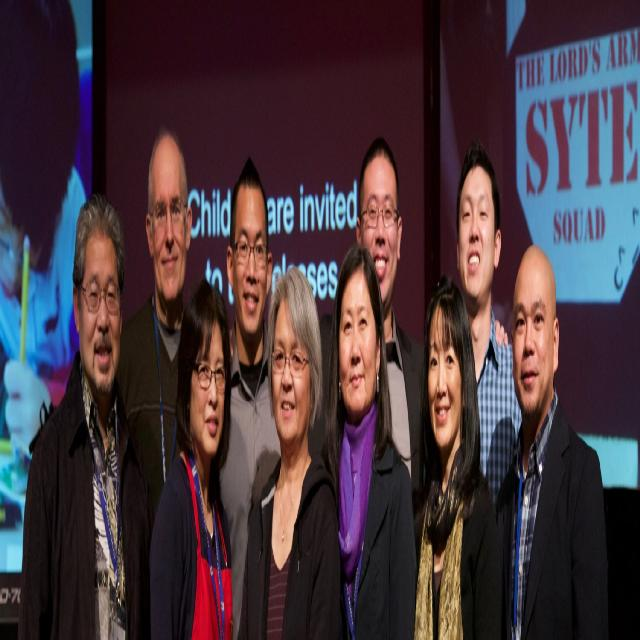body: (18, 192, 144, 638), (0, 0, 97, 547), (492, 234, 614, 639), (309, 231, 422, 639), (236, 263, 343, 640), (121, 123, 193, 639), (147, 273, 234, 640), (413, 276, 500, 639), (218, 153, 282, 640), (356, 138, 428, 501), (454, 143, 524, 515)
